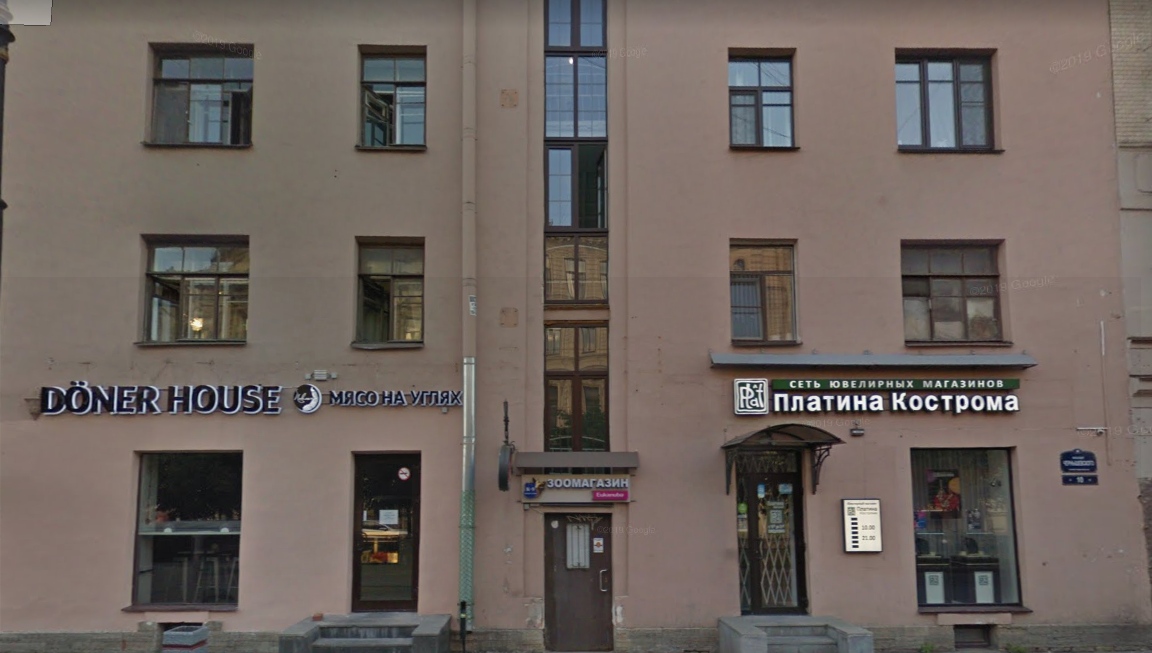cantilever: (493, 392, 515, 499)
door: (355, 453, 421, 612), (546, 512, 613, 653), (746, 473, 802, 614)
signboard: (38, 379, 460, 411), (732, 376, 1026, 416), (518, 476, 635, 512)
window: (545, 1, 607, 450), (127, 448, 239, 608), (917, 447, 1019, 612), (897, 241, 1003, 347), (146, 240, 249, 347), (147, 50, 254, 147), (895, 57, 997, 153), (732, 238, 800, 345), (728, 52, 799, 150), (358, 53, 425, 155), (358, 245, 423, 348)
